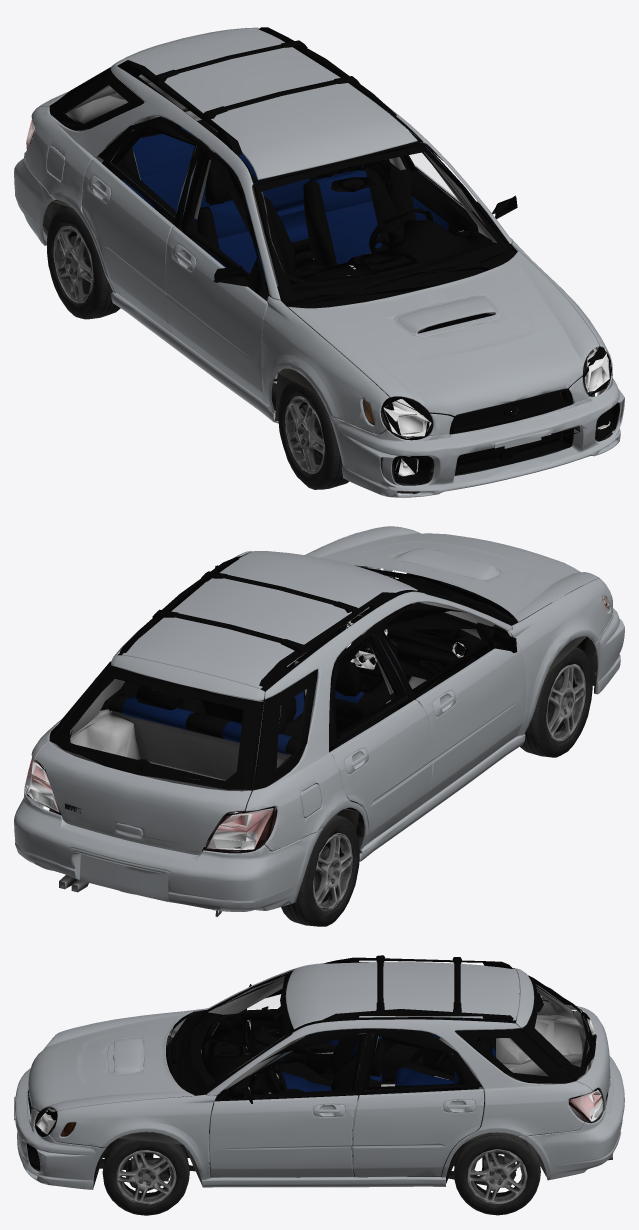
File: subaru-wrx-wagon-gg.lod1.glb
The picture shows the model from 3 angles, top to bottom: view 1: azimuth 30°, elevation 25°; view 2: azimuth 150°, elevation 25°; view 3: azimuth 270°, elevation 25°; orthographic projection. The views are drawn at different scales.
Parts seen in each view (by area): view 1: Object_228, Object_32, Object_16, Object_12, Object_30, Object_18, Object_8, Object_354, Object_296, Object_348, Object_6, Object_302 (+3 smaller); view 2: Object_228, Object_32, Object_296, Object_20, Object_12, Object_354, Object_30, Object_18, Object_348, Object_8, Object_302, Object_252 (+4 smaller); view 3: Object_228, Object_32, Object_354, Object_12, Object_6, Object_348, Object_30, Object_296, Object_20, Object_18, Object_302, Object_26 (+4 smaller).
Boxes of the visible parts, x1=… form: Object_228: x1=14, y1=27, x2=624, y2=497; Object_32: x1=29, y1=27, x2=619, y2=483; Object_16: x1=122, y1=127, x2=448, y2=280; Object_12: x1=113, y1=157, x2=491, y2=339; Object_30: x1=49, y1=67, x2=519, y2=413; Object_18: x1=122, y1=117, x2=403, y2=274; Object_8: x1=51, y1=72, x2=611, y2=465; Object_354: x1=47, y1=207, x2=348, y2=489; Object_296: x1=51, y1=67, x2=508, y2=302; Object_348: x1=53, y1=225, x2=324, y2=474; Object_6: x1=117, y1=160, x2=495, y2=381; Object_302: x1=43, y1=200, x2=612, y2=493; Object_228: x1=14, y1=526, x2=624, y2=911; Object_32: x1=27, y1=556, x2=606, y2=850; Object_296: x1=52, y1=583, x2=462, y2=789; Object_20: x1=59, y1=646, x2=426, y2=851; Object_12: x1=123, y1=593, x2=491, y2=751; Object_354: x1=49, y1=647, x2=592, y2=926; Object_30: x1=49, y1=578, x2=517, y2=821; Object_18: x1=109, y1=660, x2=385, y2=809; Object_348: x1=313, y1=664, x2=585, y2=911; Object_8: x1=42, y1=565, x2=608, y2=845; Object_302: x1=50, y1=565, x2=597, y2=916; Object_252: x1=26, y1=581, x2=608, y2=849; Object_228: x1=14, y1=961, x2=624, y2=1189; Object_32: x1=26, y1=955, x2=603, y2=1169; Object_354: x1=102, y1=1133, x2=540, y2=1215; Object_12: x1=201, y1=1009, x2=462, y2=1099; Object_6: x1=189, y1=1006, x2=482, y2=1163; Object_348: x1=116, y1=1149, x2=527, y2=1204; Object_30: x1=28, y1=970, x2=595, y2=1151; Object_296: x1=181, y1=972, x2=594, y2=1094; Object_20: x1=204, y1=1014, x2=596, y2=1169; Object_18: x1=279, y1=1017, x2=495, y2=1147; Object_302: x1=29, y1=1035, x2=612, y2=1190; Object_26: x1=208, y1=976, x2=589, y2=1089.
Bounding box in the file's own units: 1.91 × 1.5 × 4.41.
26 materials, 9 textured.
